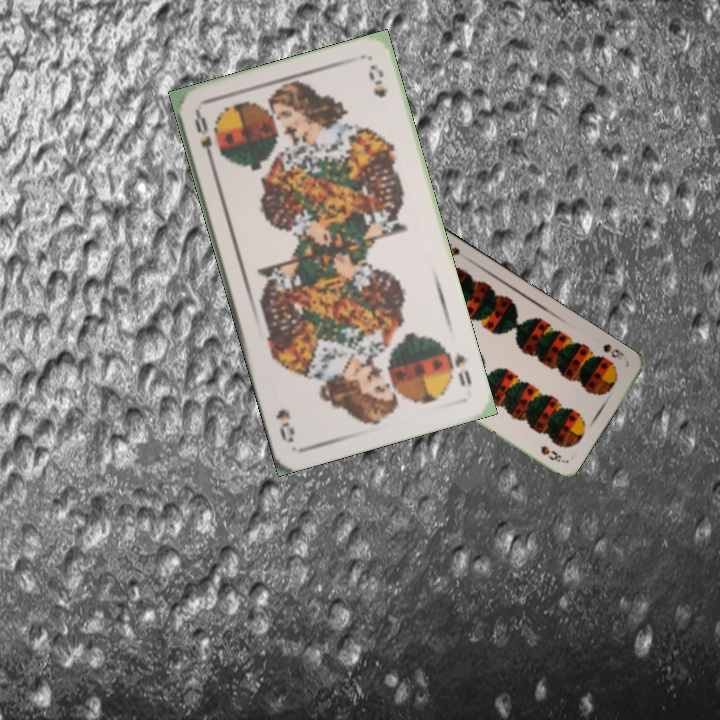S8: (599, 339, 627, 363)
SO: (190, 108, 217, 167), (443, 347, 474, 389)
